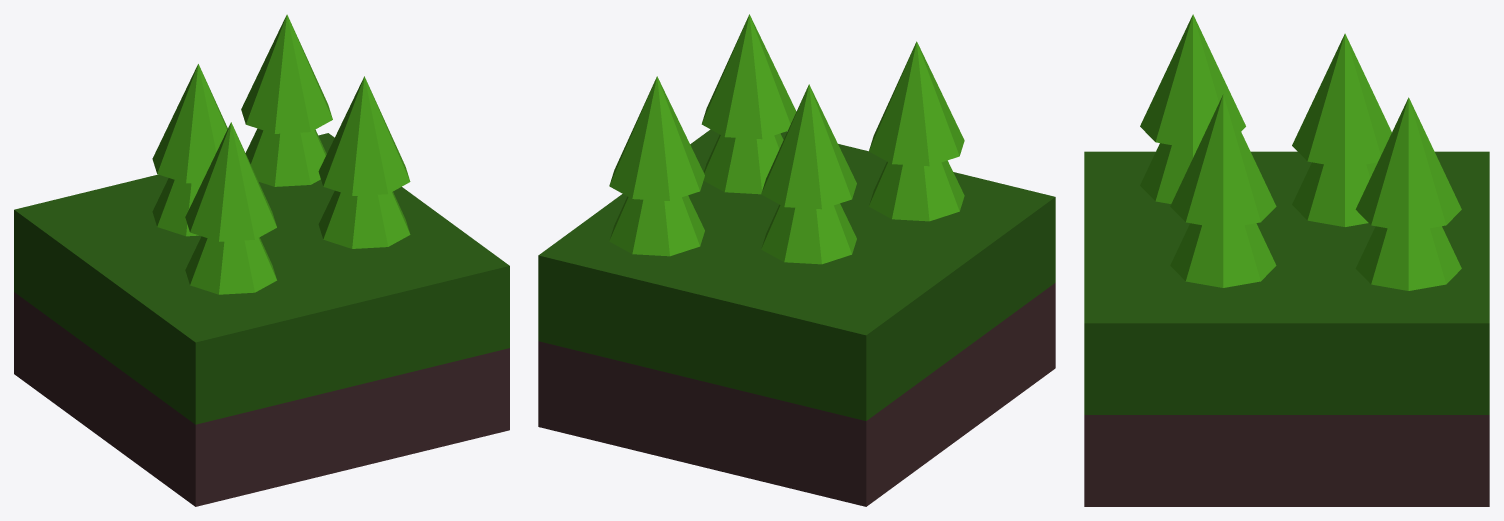
The model's file is forest.glb.
3 renders of one model, left to right at view 1: azimuth 30°, elevation 25°; view 2: azimuth 150°, elevation 25°; view 3: azimuth 270°, elevation 25°, orthographic. The views are drawn at different scales.
Parts seen in each view (by area): view 1: Forest; view 2: Forest; view 3: Forest.
Boxes of the visible parts, left/top/right/bottom form: Forest: left=14, top=14, right=509, bottom=506; Forest: left=538, top=14, right=1055, bottom=506; Forest: left=1084, top=14, right=1489, bottom=506.
Size of the model in its own units: 2 by 2 by 2.
